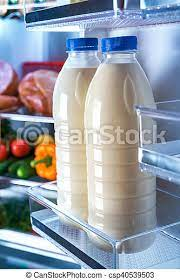milk: (83, 32, 171, 244), (52, 37, 91, 226)
